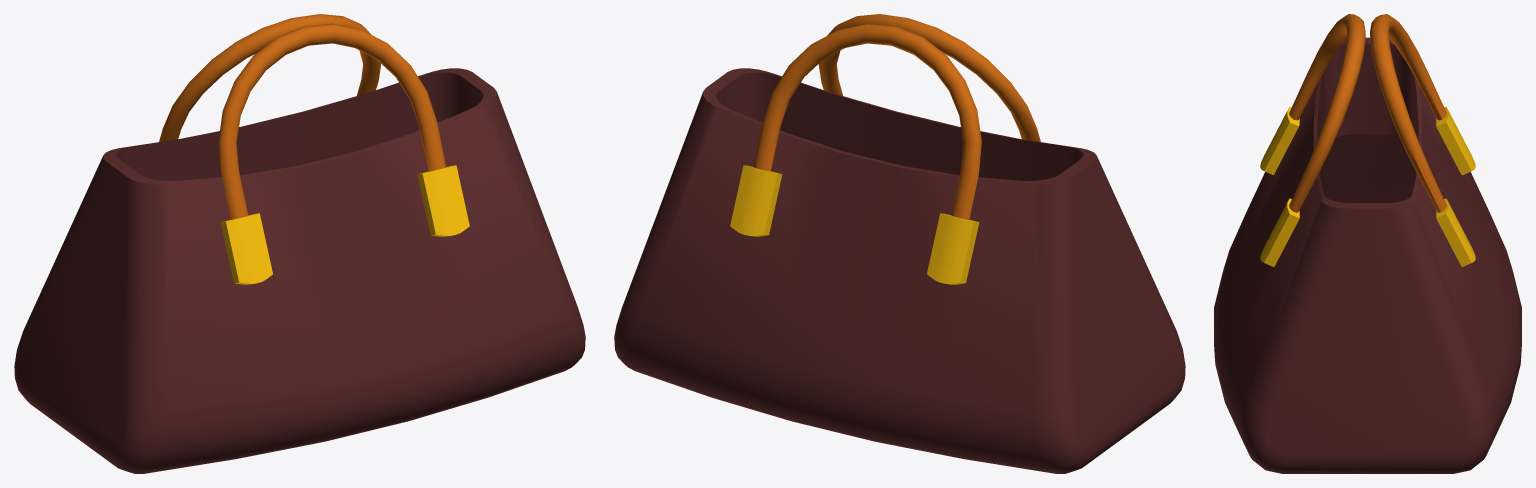
File: handbag.gltf
3 renders of one model, left to right at view 1: azimuth 30°, elevation 25°; view 2: azimuth 150°, elevation 25°; view 3: azimuth 270°, elevation 25°, orthographic. The views are drawn at different scales.
Visible parts, largest first — view 1: Cube.6109; view 2: Cube.6109; view 3: Cube.6109.
Boxes of the visible parts, box(x1,y1,x2,y2) form: Cube.6109: box(14, 14, 585, 473); Cube.6109: box(614, 14, 1185, 473); Cube.6109: box(1214, 14, 1521, 473).
Bounding box in the file's own units: 2.03 × 1.52 × 1.22.
1 material, 1 textured.
